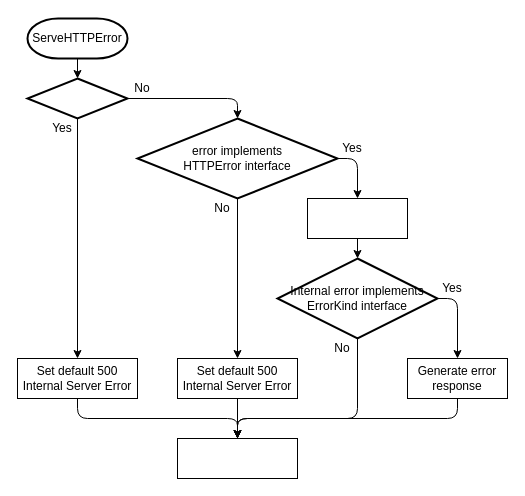
Some shapes in this 525 by 496 pixel diagram are drawn without their labels. Each missing label, with the box of its shape:
Extract error response.: (306, 198, 408, 238)
nil error: (26, 77, 128, 119)
Return HTTP error response: (176, 438, 298, 478)
